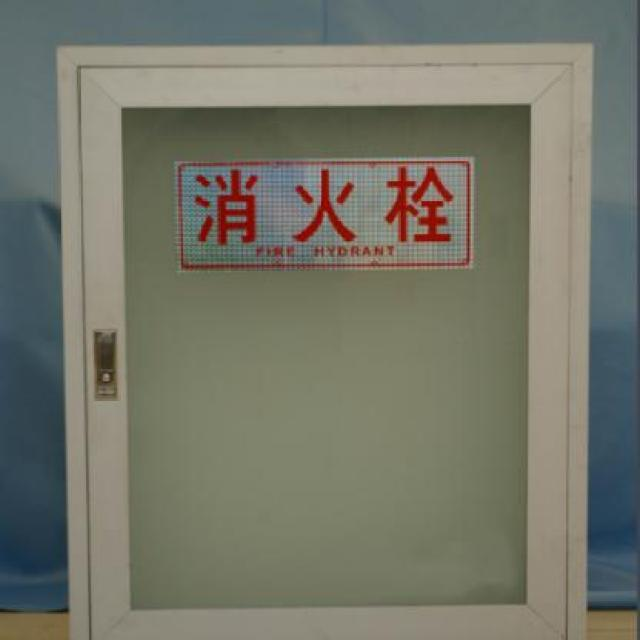firehydrant: (52, 38, 597, 640)
